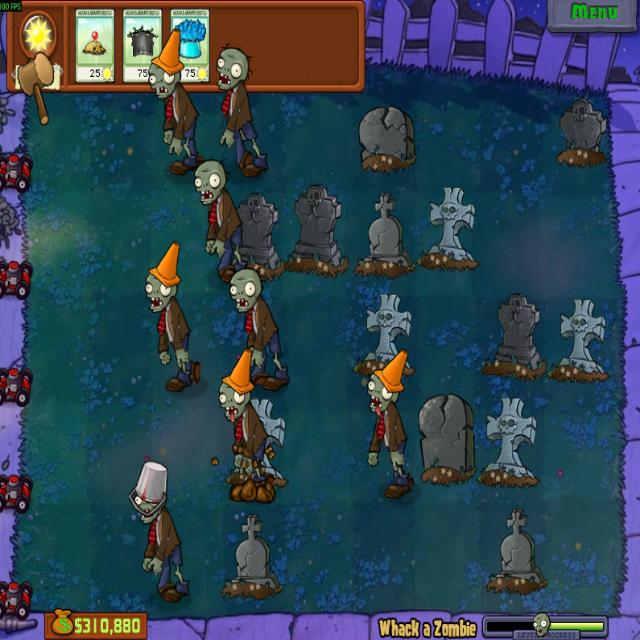buckethead: (129, 460, 170, 527)
conehead: (141, 240, 182, 314), (216, 349, 256, 424), (365, 348, 409, 415), (148, 26, 186, 99)
grave: (283, 185, 349, 276), (415, 394, 477, 486), (483, 293, 547, 379), (480, 397, 541, 487), (221, 514, 283, 602), (352, 293, 415, 379), (230, 396, 287, 491), (485, 507, 548, 592), (354, 192, 414, 280), (224, 190, 282, 280), (418, 186, 478, 272), (552, 296, 609, 384), (552, 99, 610, 172), (358, 103, 415, 172)
gravebuster: (122, 8, 162, 85)
zombie: (191, 157, 230, 208), (225, 266, 265, 313), (216, 46, 250, 90)
